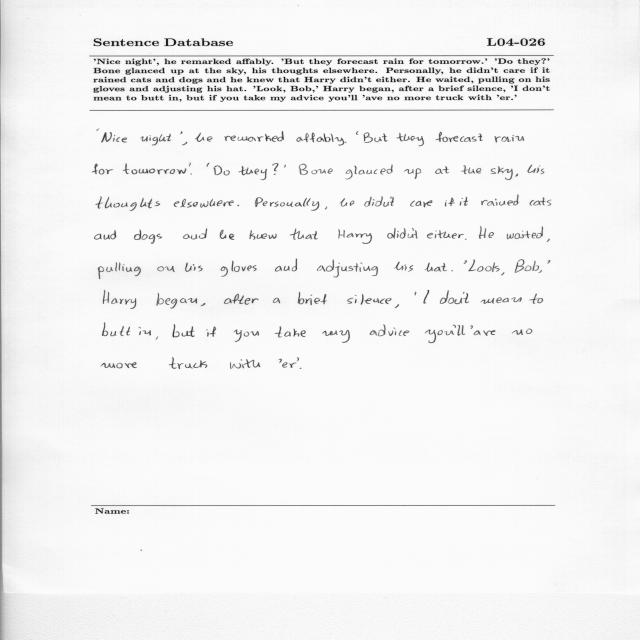word: (317, 260, 378, 278), (96, 196, 160, 211), (255, 197, 319, 211), (440, 290, 494, 304), (98, 262, 141, 279), (346, 165, 393, 180), (123, 164, 186, 175), (224, 131, 284, 142), (104, 290, 137, 309), (297, 133, 345, 146), (157, 293, 198, 308), (221, 261, 257, 277), (364, 196, 415, 207), (425, 325, 456, 343), (174, 199, 234, 208), (338, 229, 372, 244), (347, 294, 392, 305), (436, 132, 483, 142), (507, 227, 543, 240), (370, 325, 409, 337), (169, 357, 207, 369), (134, 229, 162, 244), (481, 195, 519, 206), (238, 166, 267, 180), (469, 259, 500, 272), (298, 292, 327, 305), (299, 164, 333, 175), (224, 294, 258, 305), (140, 134, 171, 146), (396, 133, 424, 146), (322, 330, 350, 343), (103, 323, 130, 336), (275, 327, 306, 338), (290, 228, 318, 240), (515, 259, 539, 273), (427, 230, 464, 239), (388, 228, 418, 239), (234, 329, 259, 342), (230, 359, 261, 369), (491, 166, 513, 180), (173, 324, 195, 338), (470, 325, 496, 336), (249, 230, 277, 240), (364, 132, 388, 143), (183, 228, 207, 239), (275, 259, 297, 271), (101, 132, 127, 142), (101, 362, 137, 369), (93, 164, 113, 175), (279, 357, 299, 368), (495, 135, 525, 142), (95, 230, 116, 240), (530, 197, 552, 206), (425, 263, 447, 272), (479, 226, 494, 239), (394, 262, 413, 272), (404, 168, 421, 179), (461, 165, 481, 174), (185, 262, 203, 272), (195, 133, 213, 142), (496, 297, 522, 303), (529, 293, 543, 304), (527, 165, 544, 174), (220, 230, 234, 240), (512, 328, 532, 335), (340, 198, 355, 207), (416, 201, 433, 208), (435, 166, 449, 174), (206, 326, 216, 337), (157, 266, 175, 272), (139, 327, 151, 335), (214, 165, 223, 175), (445, 198, 455, 207), (272, 163, 279, 175), (424, 290, 430, 304), (460, 197, 469, 206), (458, 325, 465, 336), (273, 298, 280, 304), (189, 163, 192, 174), (224, 171, 230, 176), (394, 304, 399, 308), (182, 142, 187, 145), (201, 303, 206, 306), (207, 163, 210, 167), (515, 173, 518, 177), (464, 260, 467, 264), (538, 270, 542, 273), (548, 260, 551, 264), (547, 239, 550, 242), (501, 272, 504, 275), (156, 337, 159, 340), (356, 131, 358, 135), (325, 206, 327, 210), (415, 292, 417, 296), (180, 132, 182, 135), (284, 165, 286, 168), (97, 129, 99, 131), (451, 270, 453, 272), (345, 142, 347, 143), (300, 368, 302, 369), (238, 205, 239, 206), (465, 239, 466, 240)
